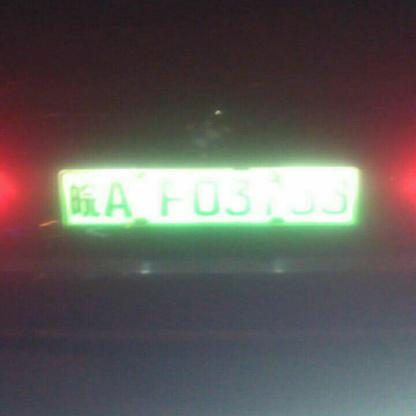lp: (58, 168, 357, 225)
